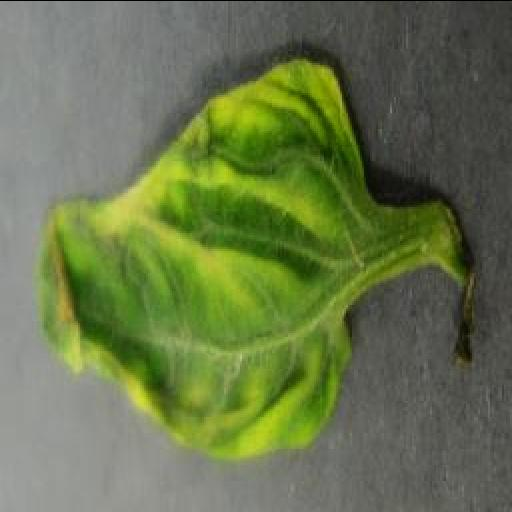disease_tomato: (38, 54, 370, 456)
